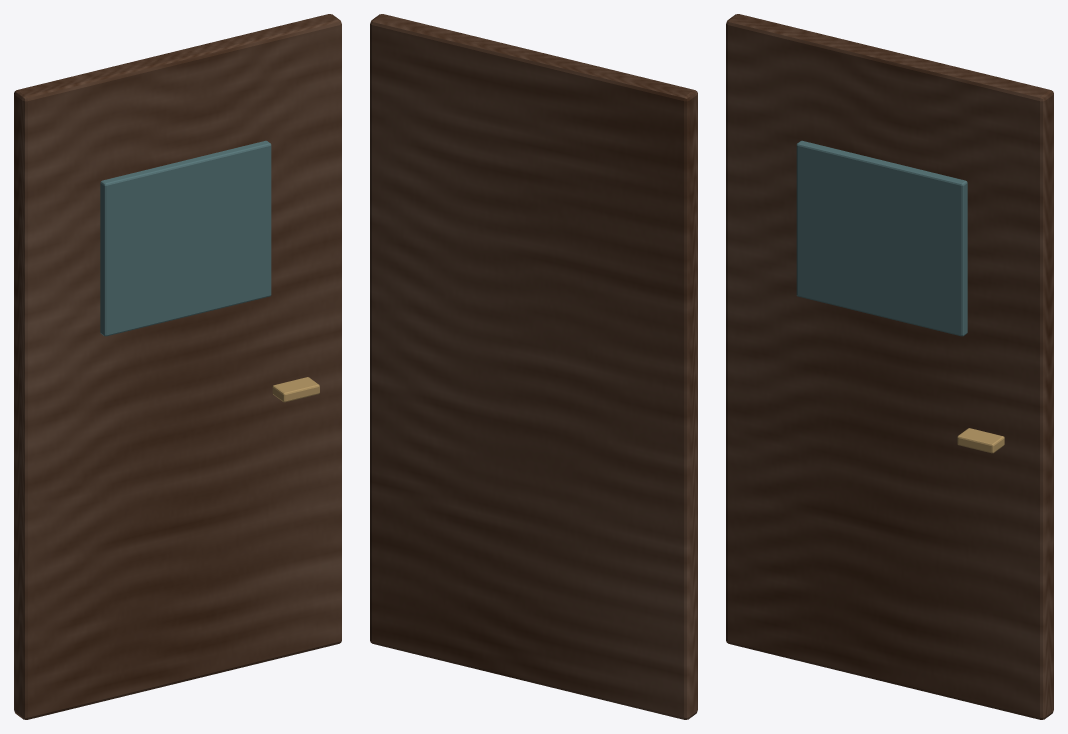
Rendered from pintu.glb.
3 renders of one model, left to right at view 1: azimuth 30°, elevation 25°; view 2: azimuth 150°, elevation 25°; view 3: azimuth 330°, elevation 25°, orthographic.
Visible parts, largest first — view 1: pintu, Kaca, Pegangan; view 2: pintu; view 3: pintu, Kaca, Pegangan.
Part boxes in pixels (x1,y1,x2,y2): pintu: [14, 14, 341, 719]; Kaca: [100, 140, 271, 336]; Pegangan: [272, 377, 319, 402]; pintu: [370, 14, 697, 719]; pintu: [726, 14, 1053, 719]; Kaca: [796, 140, 967, 336]; Pegangan: [957, 428, 1004, 453].
Bounding box in the file's own units: 1.22 × 2.28 × 0.17.
3 materials, 1 textured.
